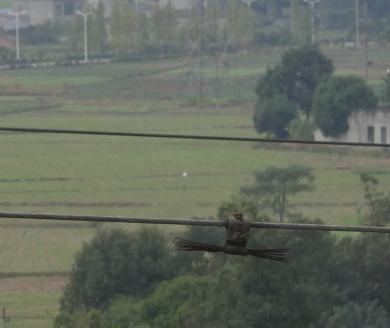damper_defect: (171, 208, 294, 263)
